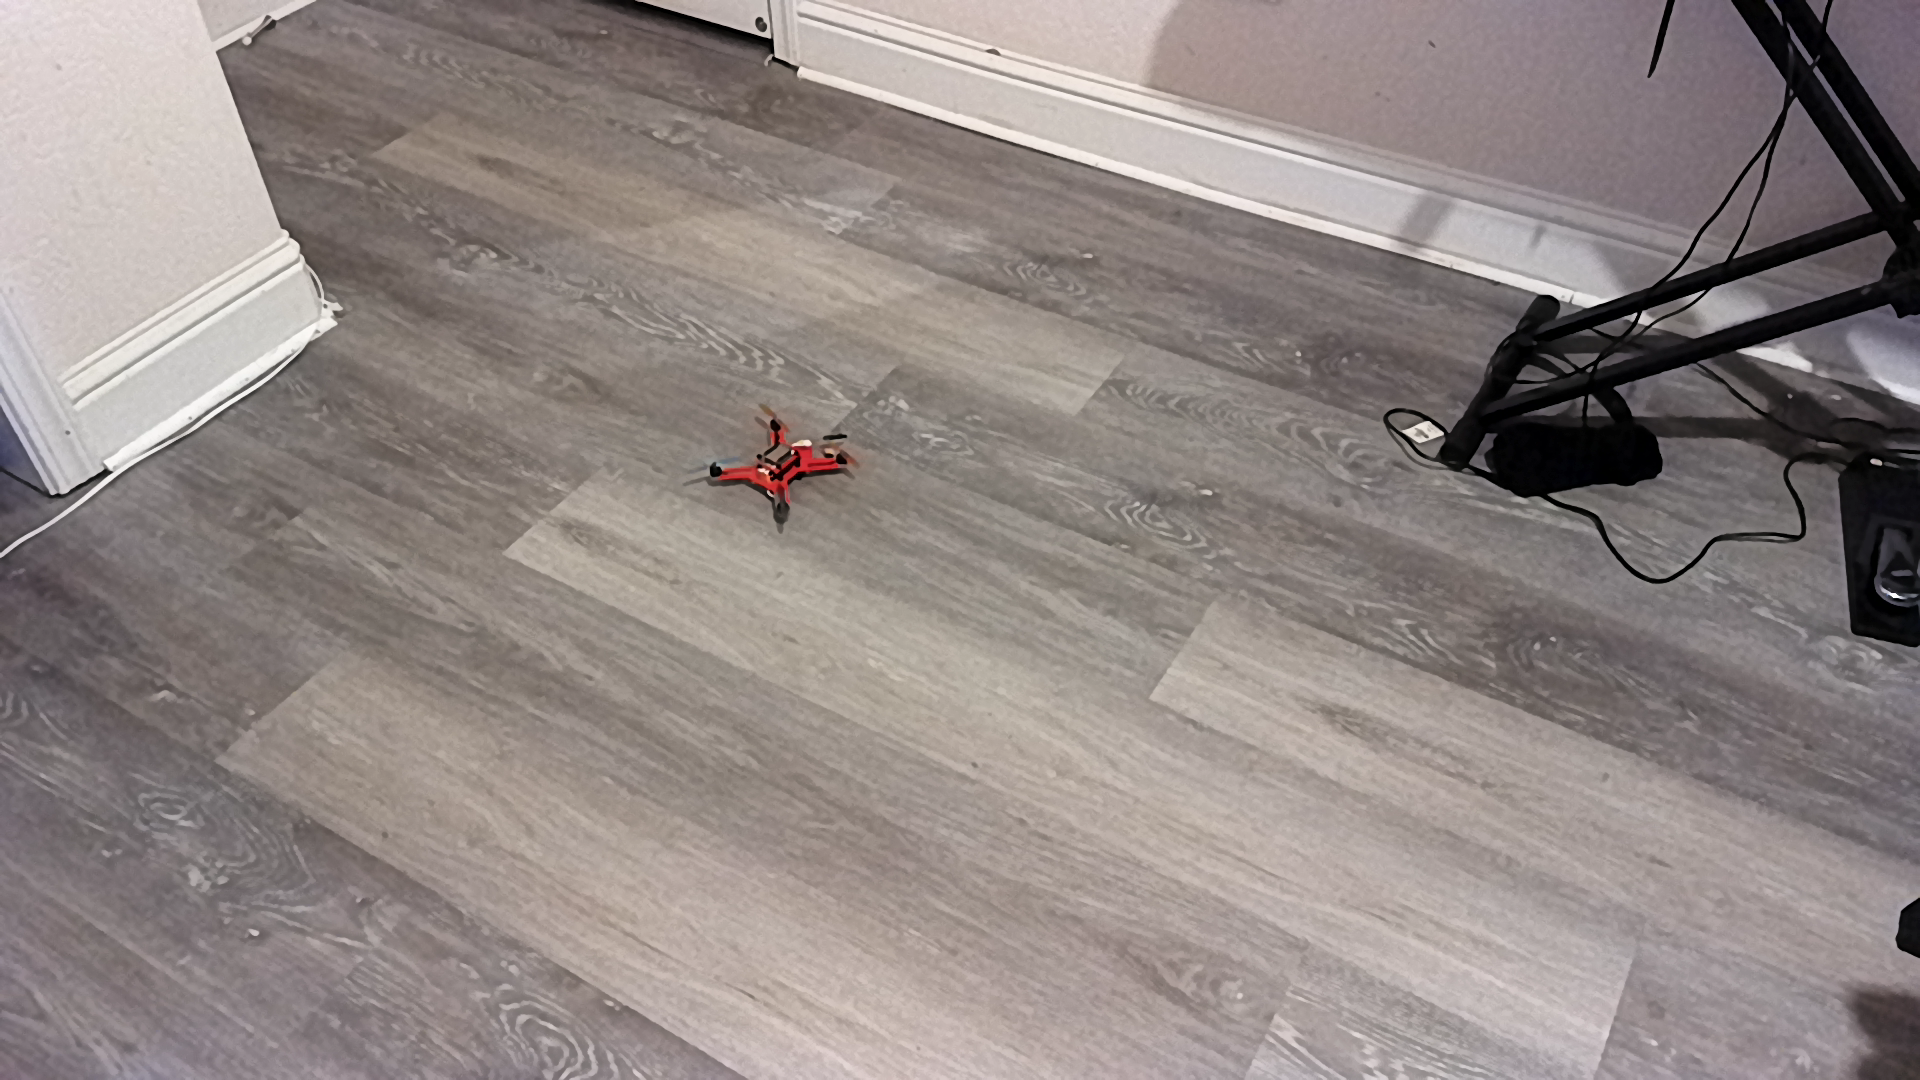drone: (680, 402, 887, 535)
